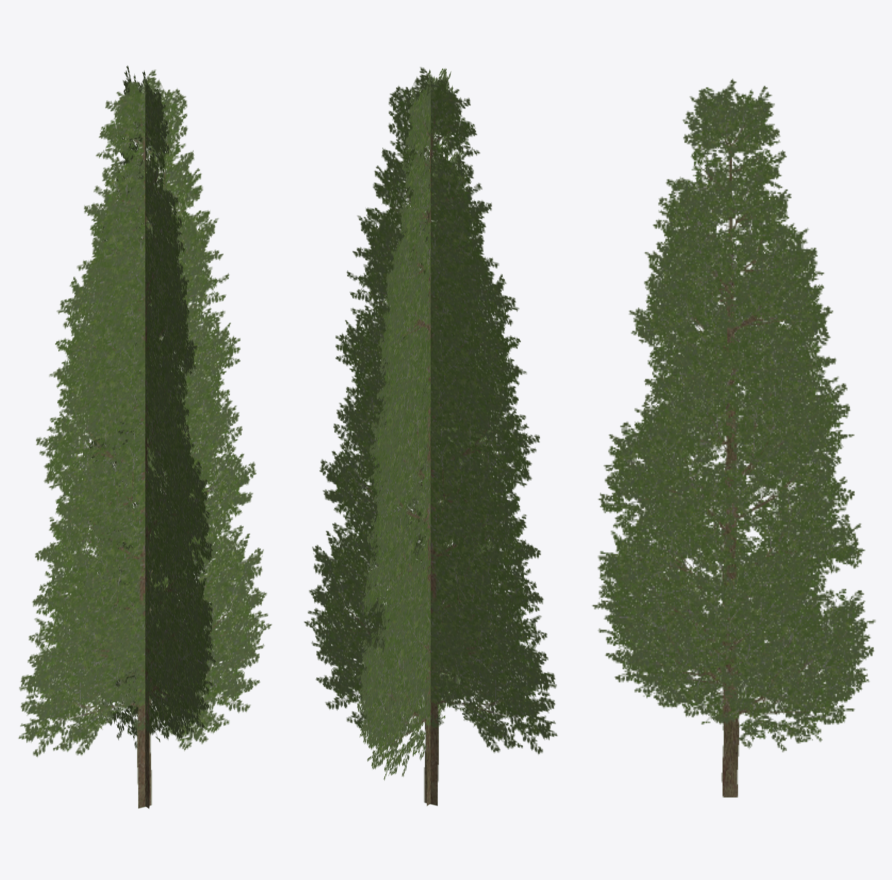
File: LaurusNobilis.glb
The picture shows the model from 3 angles, left to right: view 1: azimuth 30°, elevation 25°; view 2: azimuth 150°, elevation 25°; view 3: azimuth 270°, elevation 25°; orthographic projection. The views are drawn at different scales.
Parts seen in each view (by area): view 1: mesh__mat_billboard_10; view 2: mesh__mat_billboard_10; view 3: mesh__mat_billboard_10.
Boxes of the visible parts, bbox=[...] form: mesh__mat_billboard_10: bbox=[18, 65, 271, 808]; mesh__mat_billboard_10: bbox=[304, 67, 557, 805]; mesh__mat_billboard_10: bbox=[592, 78, 875, 797].
Size of the model in its own units: 1.55 by 4.25 by 1.52.
1 material, 1 textured.
